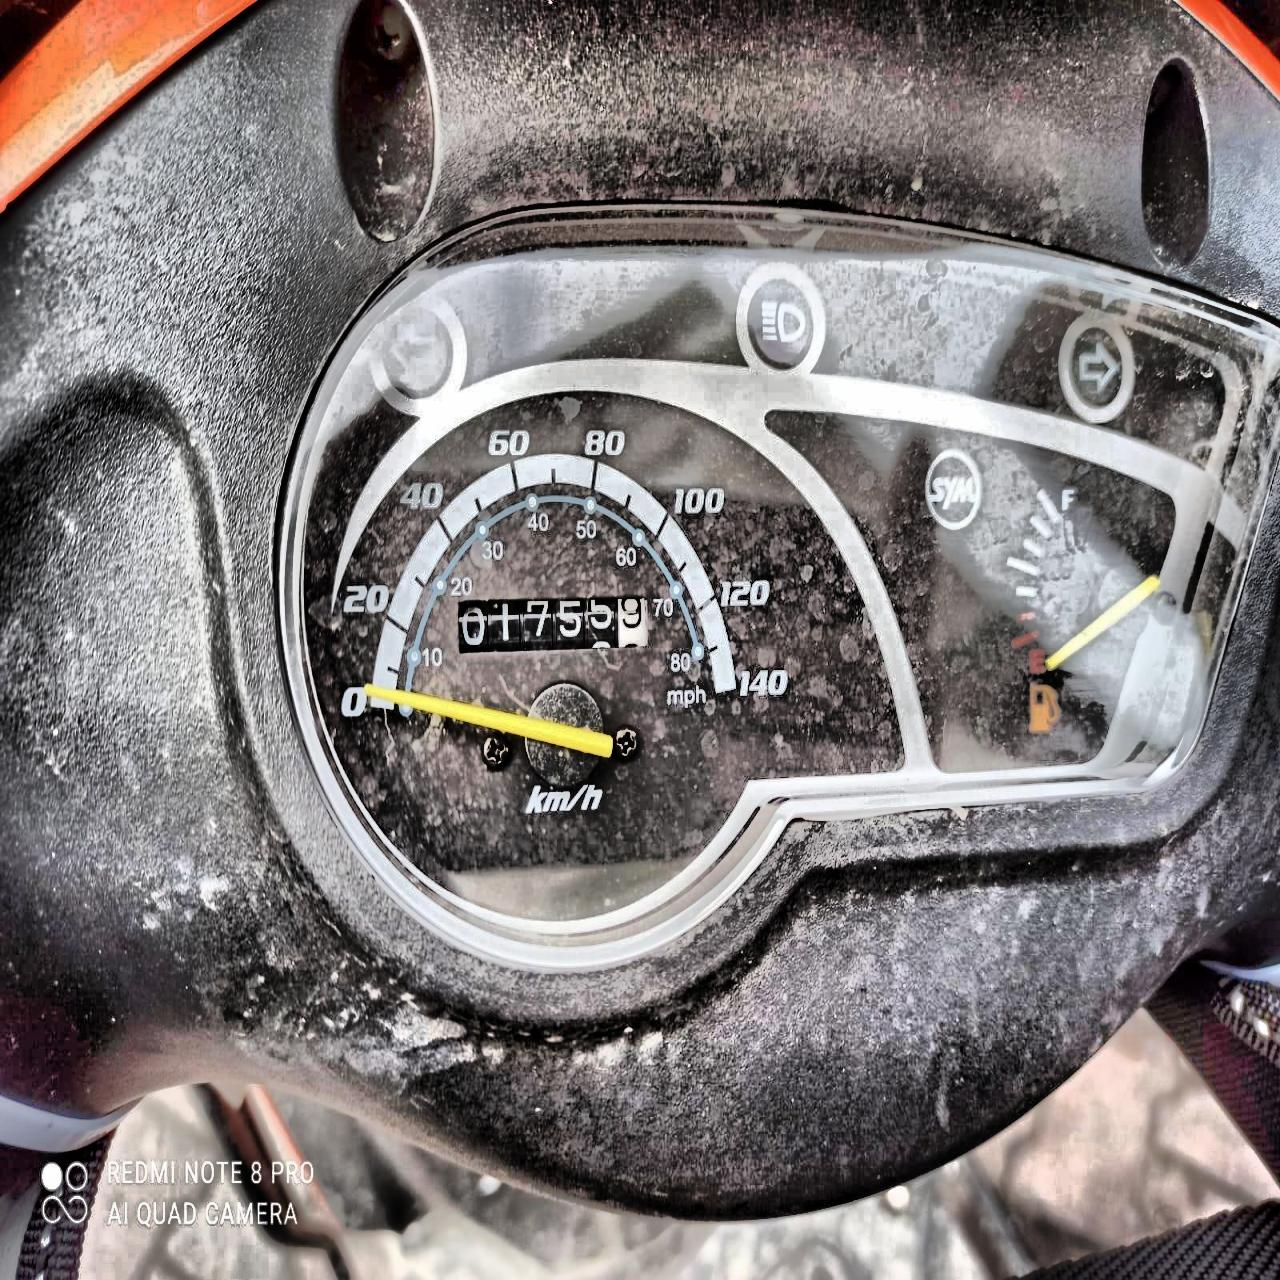0: (461, 602, 485, 647)
1: (495, 600, 512, 653)
5: (558, 598, 584, 638), (588, 594, 613, 634)
7: (525, 598, 549, 639)
9: (619, 594, 644, 635)
odometer: (451, 594, 653, 666)
